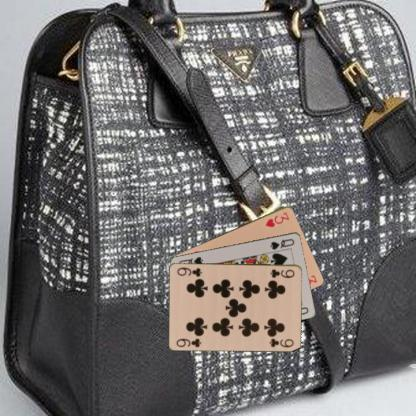3h: (263, 209, 291, 228)
9c: (267, 266, 296, 279), (174, 336, 202, 348)
Qs: (268, 236, 295, 250)
